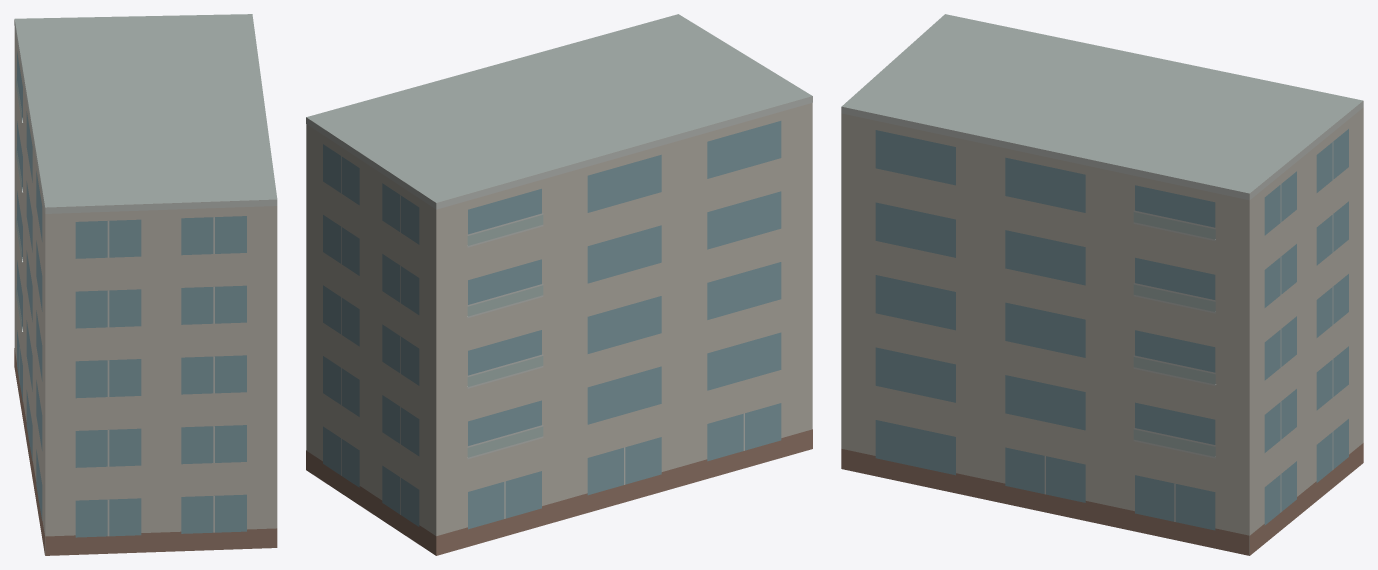
The model's file is survey-upis-32986977.glb.
3 renders of one model, left to right at view 1: azimuth 30°, elevation 25°; view 2: azimuth 150°, elevation 25°; view 3: azimuth 270°, elevation 25°, orthographic. The views are drawn at different scales.
Visible parts, largest first — view 1: survey-upis-32986977.tmp; view 2: survey-upis-32986977.tmp; view 3: survey-upis-32986977.tmp.
Part boxes in pixels (x1,y1,x2,y2): survey-upis-32986977.tmp: (14,14,277,555); survey-upis-32986977.tmp: (306,14,812,555); survey-upis-32986977.tmp: (841,14,1363,555).
Size of the model in its own units: 13.82 by 13 by 16.98.
